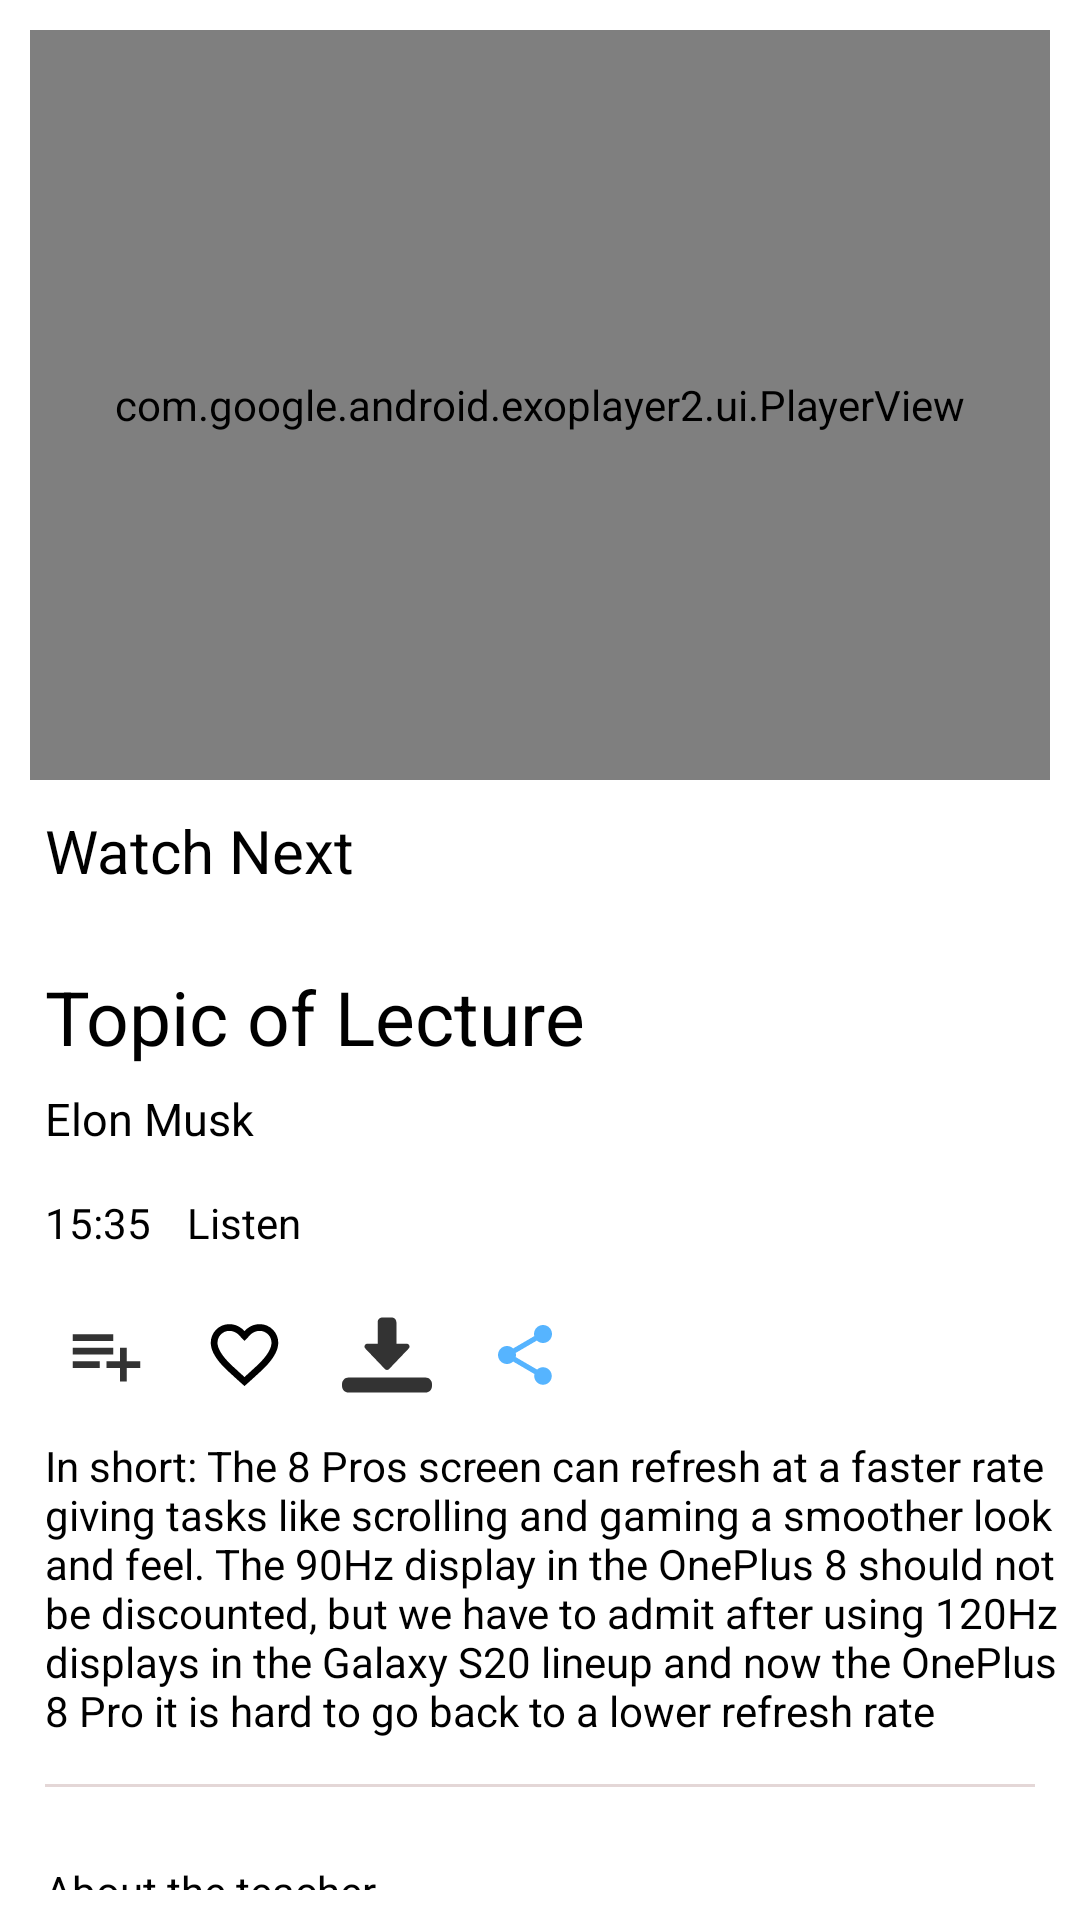

Icon click points for this 1080x1920 phone screenshot, format (x=x, y=y):
add to list: (x=106, y=1358)
download: (x=387, y=1355)
heart: (x=244, y=1355)
share: (x=525, y=1355)
